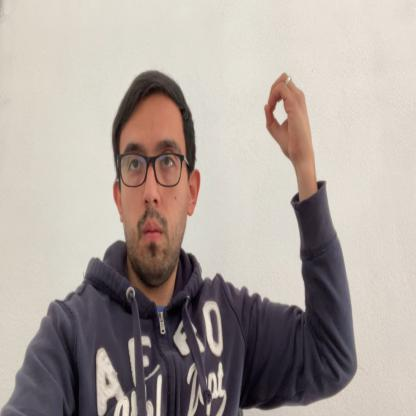O: (264, 73, 310, 160)
